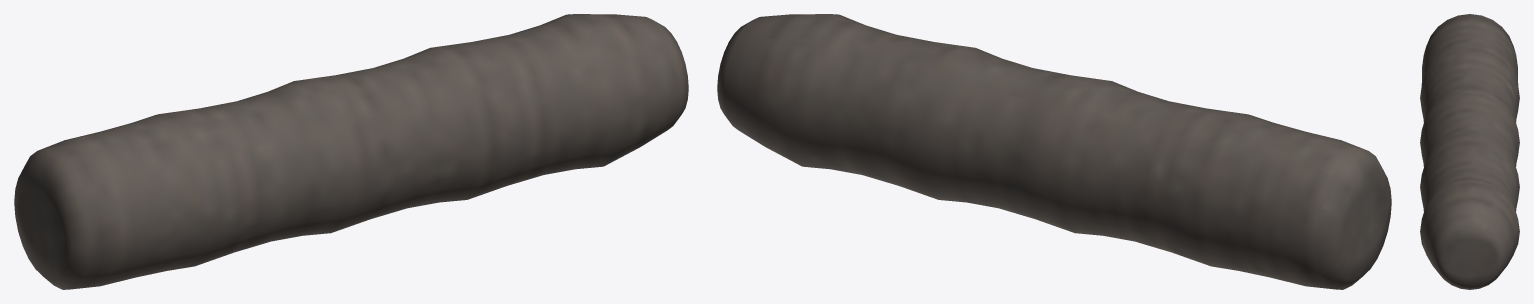
File: TroncoCoqueiro.fbx
3 renders of one model, left to right at view 1: azimuth 30°, elevation 25°; view 2: azimuth 150°, elevation 25°; view 3: azimuth 270°, elevation 25°, orthographic. The views are drawn at different scales.
Parts seen in each view (by area): view 1: TroncosCoqueiro_LOD0; view 2: TroncosCoqueiro_LOD0; view 3: TroncosCoqueiro_LOD0.
Boxes of the visible parts, <box> form: TroncosCoqueiro_LOD0: <box>14,14,688,289</box>; TroncosCoqueiro_LOD0: <box>717,14,1391,289</box>; TroncosCoqueiro_LOD0: <box>1420,14,1519,289</box>.
Size of what is drawn, in the model's own units: 198 by 43.75 by 40.98.
